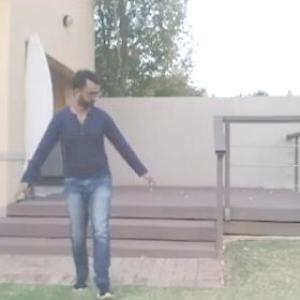land: (1, 49, 188, 299)
